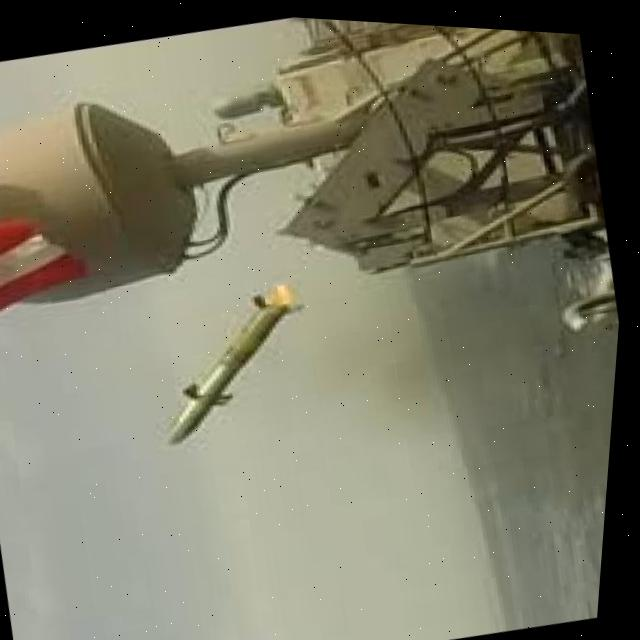missile: (145, 278, 325, 449)
